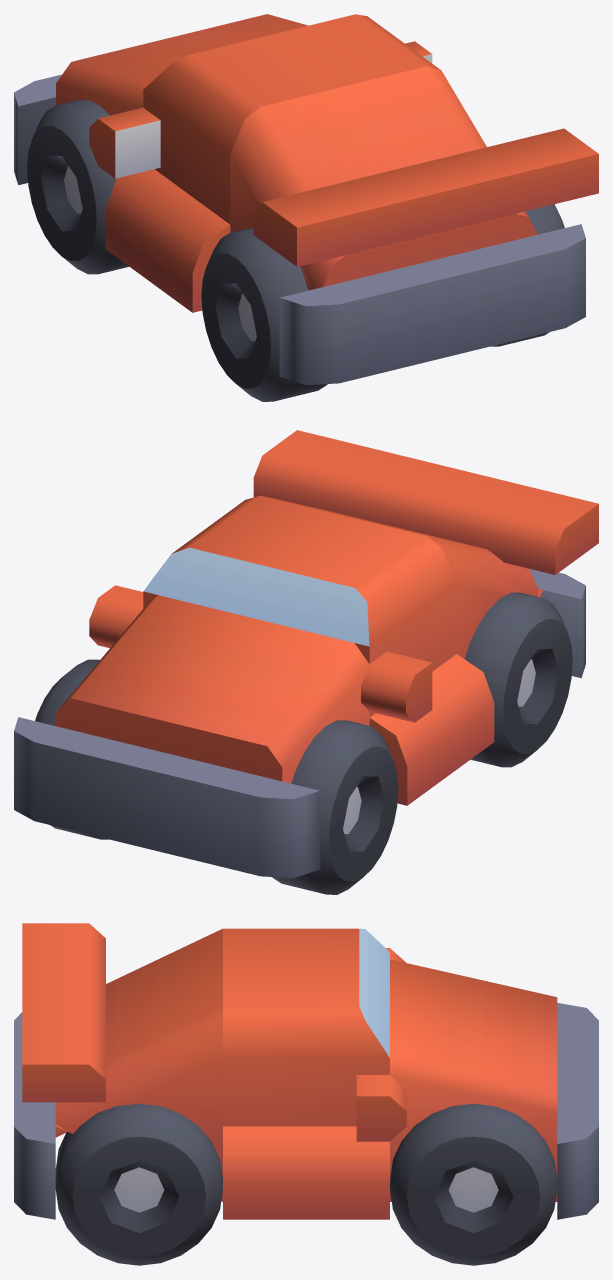
File: kenney-toy-car-vehicle-racer-low.glb
3 views of the same model, one above another, from view 1: azimuth 30°, elevation 25°; view 2: azimuth 150°, elevation 25°; view 3: azimuth 270°, elevation 25° (orthographic). The views are drawn at different scales.
Parts seen in each view (by area): view 1: vehicle-racer-low, wheel-bl, wheel-fl, wheel-br; view 2: vehicle-racer-low, wheel-bl, wheel-fl, wheel-fr; view 3: vehicle-racer-low, wheel-br, wheel-fr.
Part boxes in pixels (box(x1,y1,x2,y2)): vehicle-racer-low: box(14, 14, 598, 385); wheel-bl: box(201, 227, 327, 401); wheel-fl: box(27, 99, 128, 274); wheel-br: box(491, 204, 564, 346); vehicle-racer-low: box(14, 430, 598, 878); wheel-bl: box(464, 592, 572, 767); wheel-fl: box(272, 720, 398, 894); wheel-fr: box(35, 659, 108, 839); vehicle-racer-low: box(14, 923, 598, 1219); wheel-br: box(55, 1103, 222, 1265); wheel-fr: box(390, 1103, 557, 1265).
Bounding box in the file's own units: 0.525 × 0.3875 × 0.875.
Materials: 1 (1 with a texture image).
